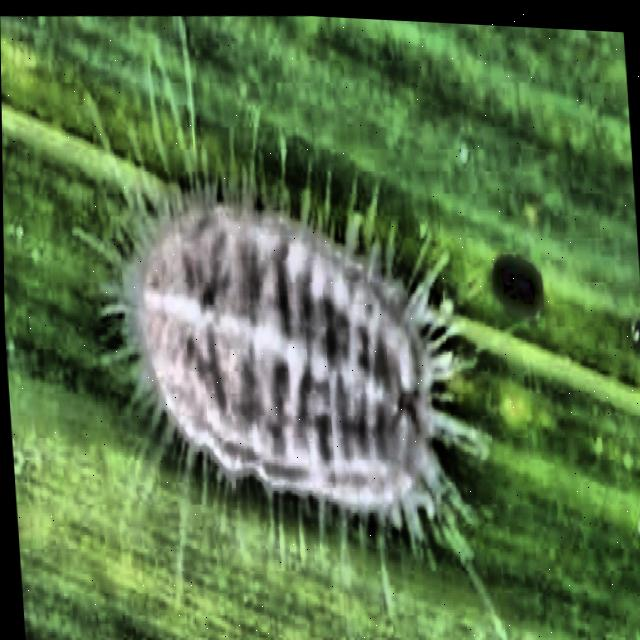Mealy-bug: (73, 98, 505, 583)
